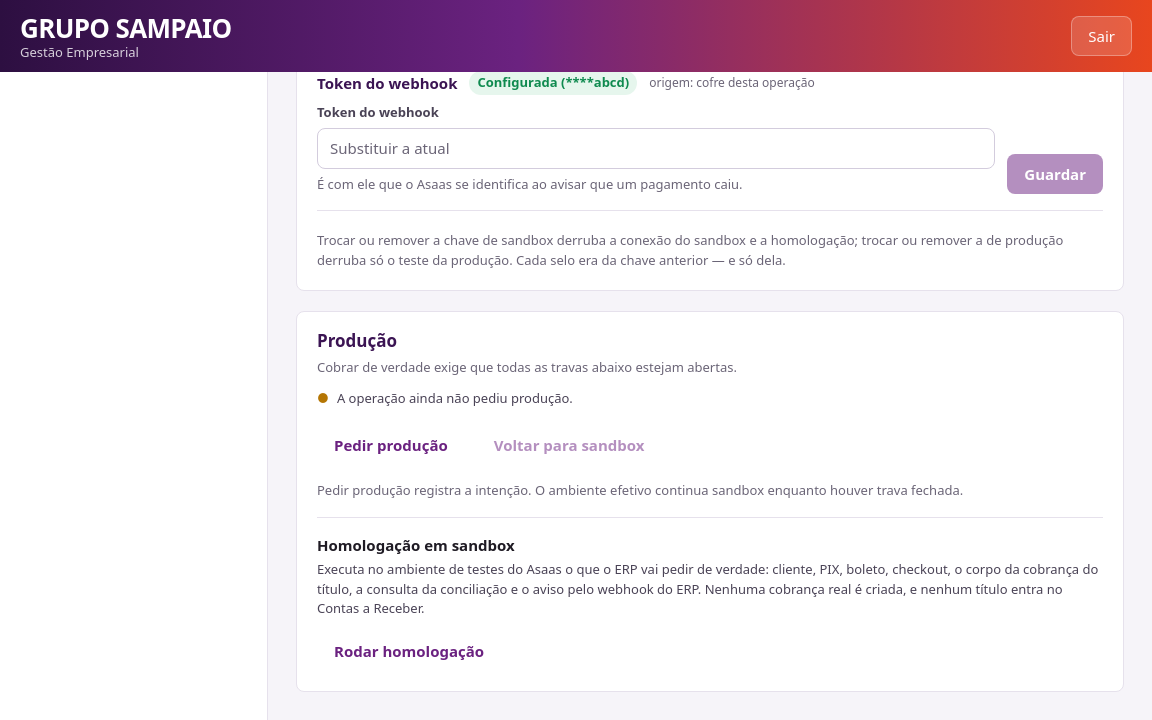
Test: GAP-PRD-169 — a tela da homologação diz o que foi executado › o aviso a caminho oferece a conferência, que atualiza o passo
(page scrolled)
Click the button "Rodar homologação": (409, 651) left=317, top=630, right=501, bottom=671
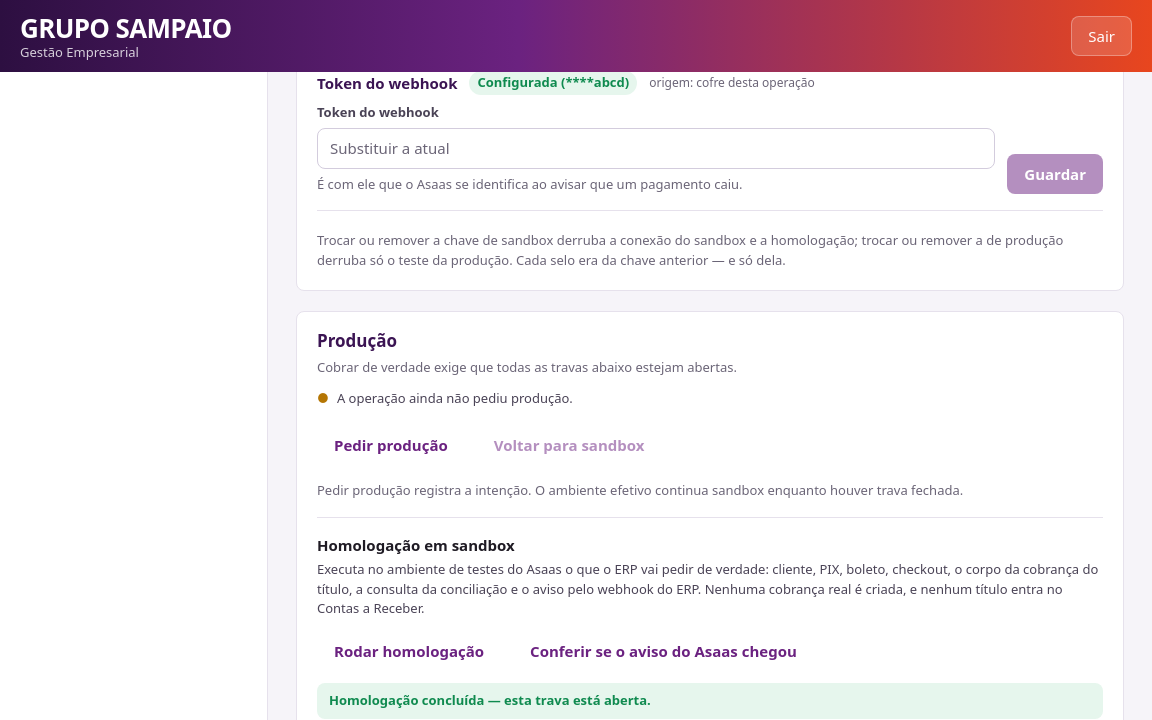
Click the button "Conferir se o aviso do Asaas chegou": (663, 651) left=513, top=630, right=814, bottom=671
(page scrolled)
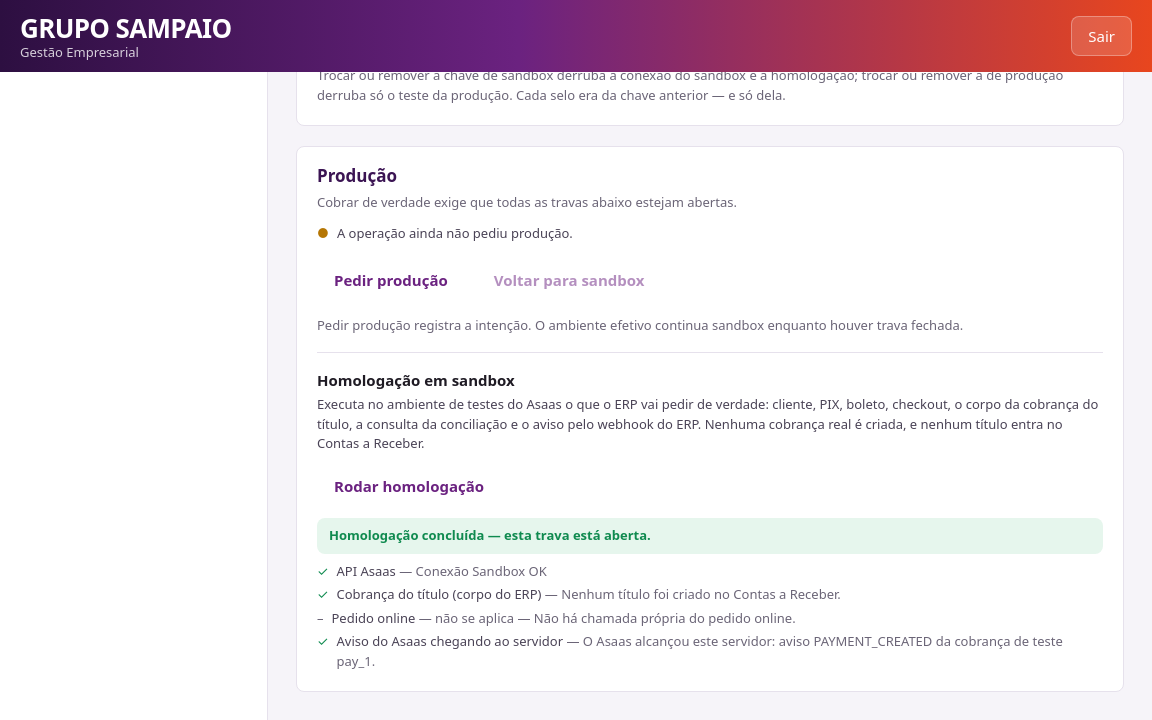
Expected: the text "O Asaas alcançou este servidor" is shown, left=336, top=632, right=1063, bottom=670
Expected: the list item with test id "passo-webhook_external" shows "✓", left=317, top=632, right=328, bottom=650
